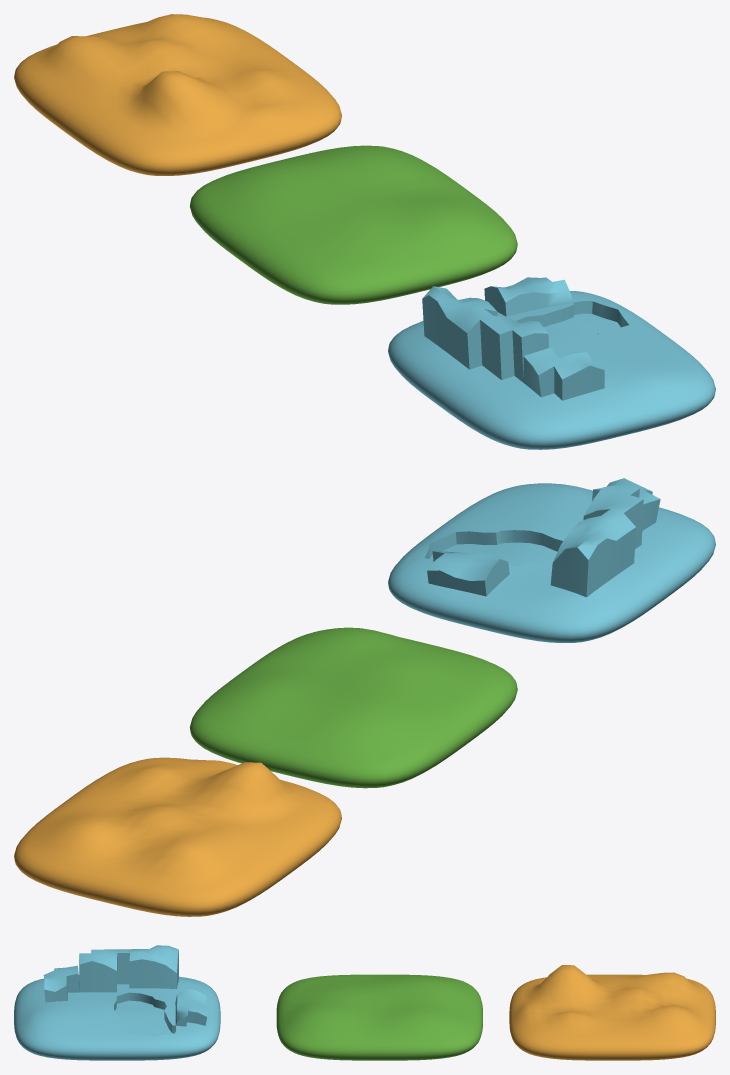
The model's file is habitatclimas.fbx.
The picture shows the model from 3 angles, top to bottom: view 1: azimuth 30°, elevation 25°; view 2: azimuth 150°, elevation 25°; view 3: azimuth 270°, elevation 25°; orthographic projection. The views are drawn at different scales.
Parts seen in each view (by area): view 1: hielo, desierto, jungla; view 2: hielo, desierto, jungla; view 3: hielo, desierto, jungla.
Boxes of the visible parts, x1,y1,x2,y2 form: hielo: (388, 277, 715, 449); desierto: (14, 14, 341, 175); jungla: (189, 145, 517, 304); hielo: (388, 478, 715, 642); desierto: (14, 757, 341, 916); jungla: (189, 627, 517, 788); hielo: (14, 945, 220, 1060); desierto: (509, 965, 715, 1060); jungla: (276, 974, 482, 1060).
Bounding box in the file's own units: 2667 × 1023 × 10525.
